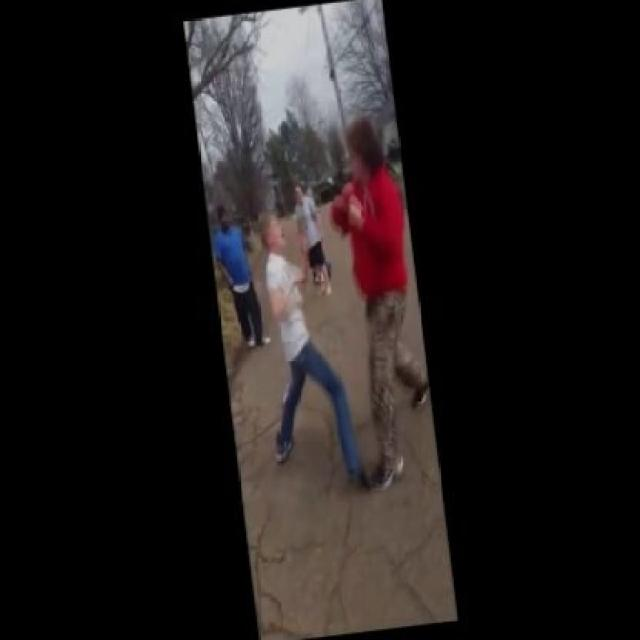fight: (231, 172, 431, 505)
non-fight: (201, 211, 277, 354)
